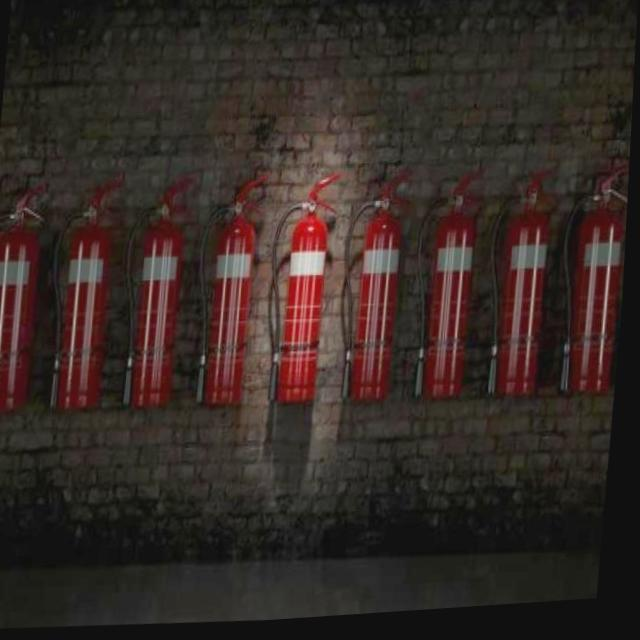FireExtinguisher: (186, 167, 274, 416), (39, 173, 127, 420), (407, 163, 495, 409), (332, 165, 418, 411), (113, 173, 198, 420), (478, 182, 567, 411), (551, 162, 632, 408), (262, 170, 344, 410), (0, 172, 51, 418)
